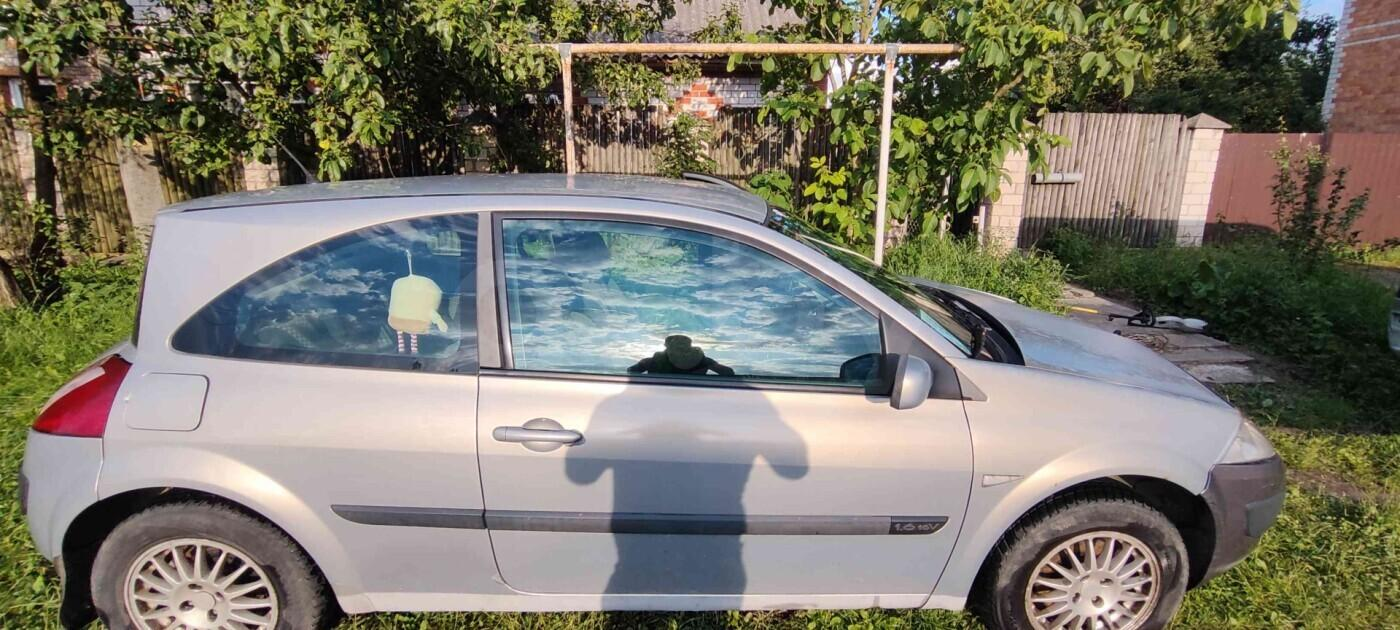Megane_2002-2006: (2, 170, 1289, 630)
